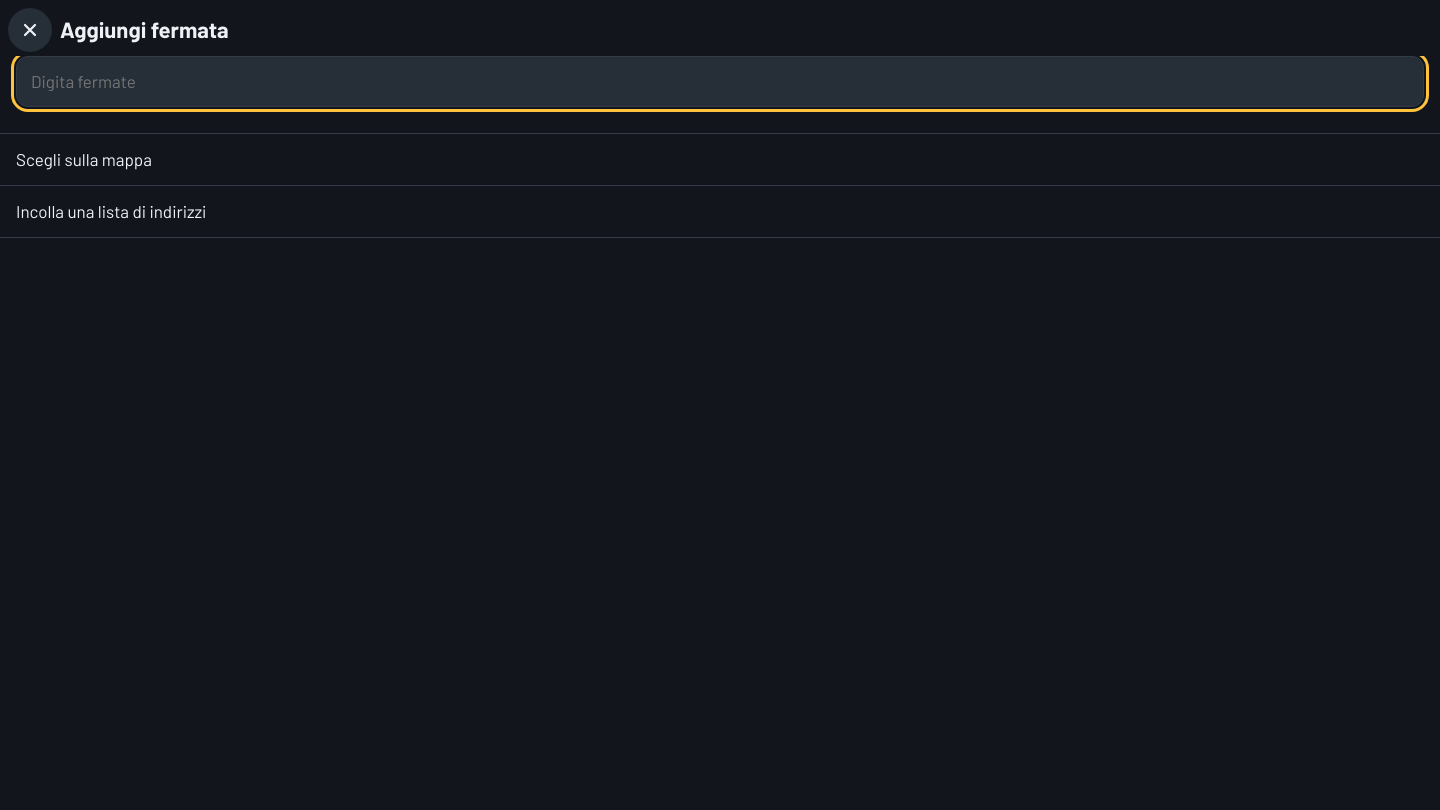
Test: usa la posizione GPS del telefono e mostra la distanza
Type "Via Rom" into the field named "Cerca indirizzo". click: (720,81)
box: x1=16 y1=56 x2=1424 y2=107
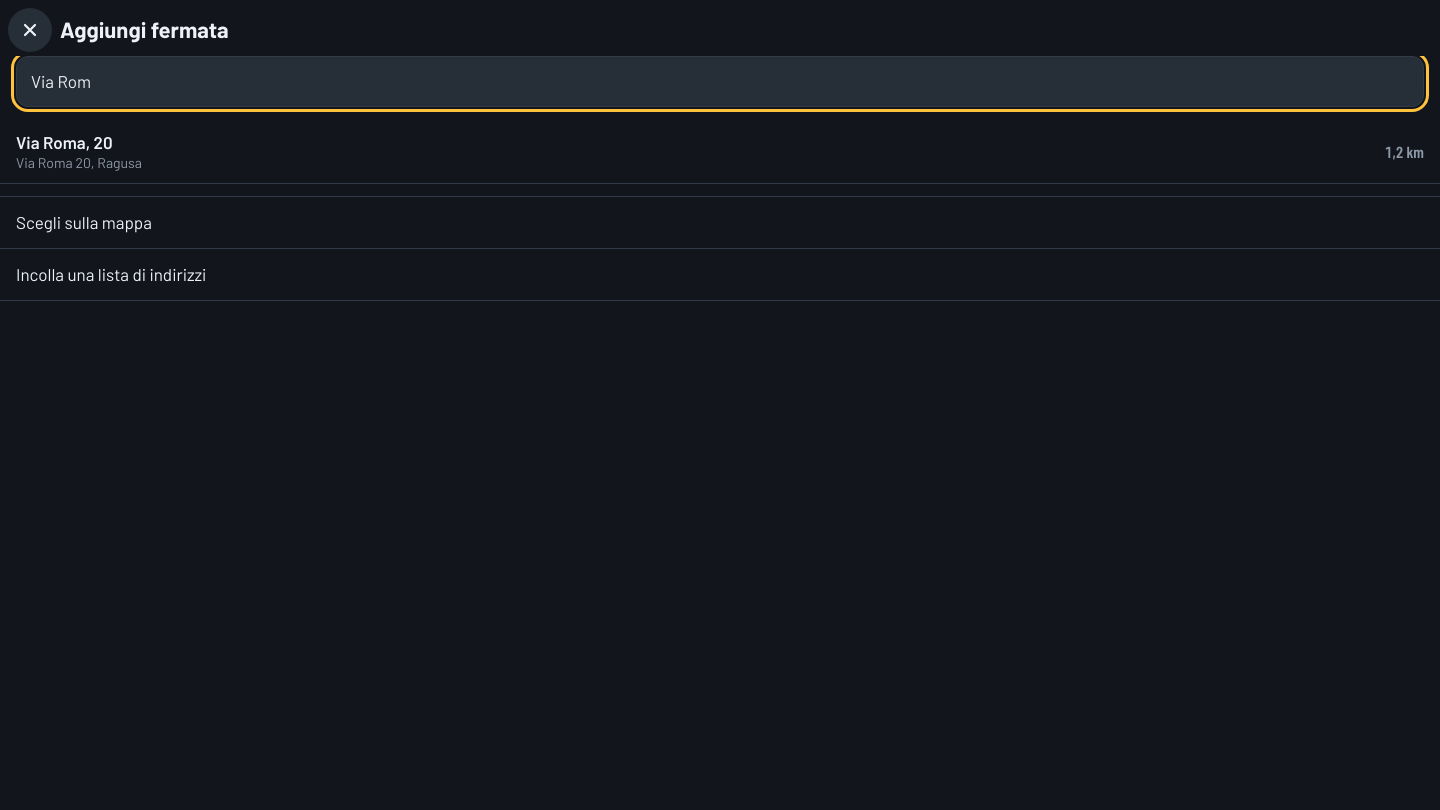
Result: the text "1,2 km" is shown at x1=1385 y1=141 x2=1424 y2=163
